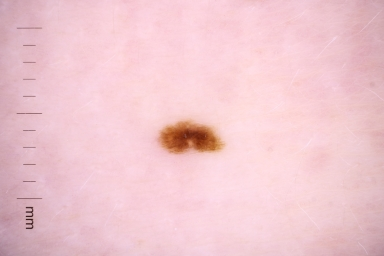nevus: (159, 120, 224, 153)
